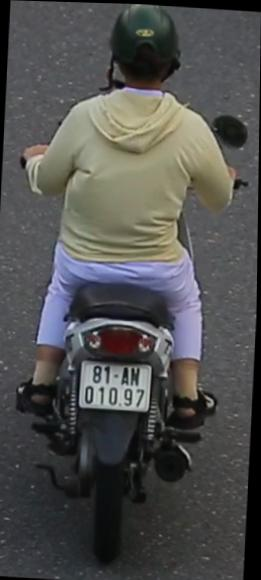LP: (76, 352, 155, 418)
helmet: (101, 2, 190, 104)
